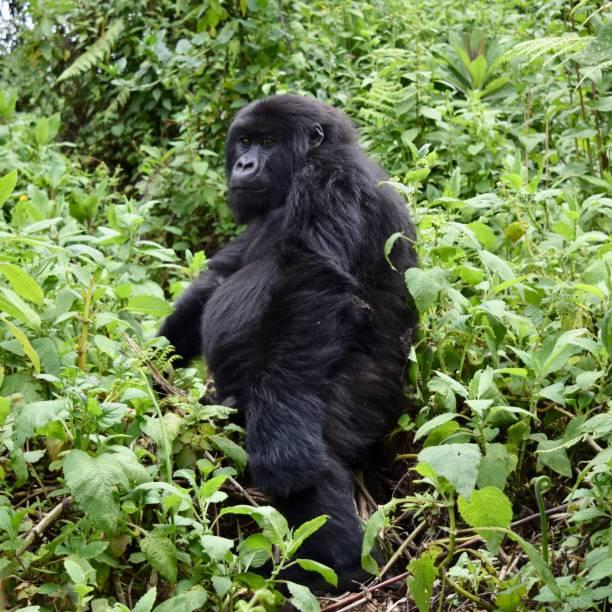goriile_montagne: (110, 52, 477, 600)
